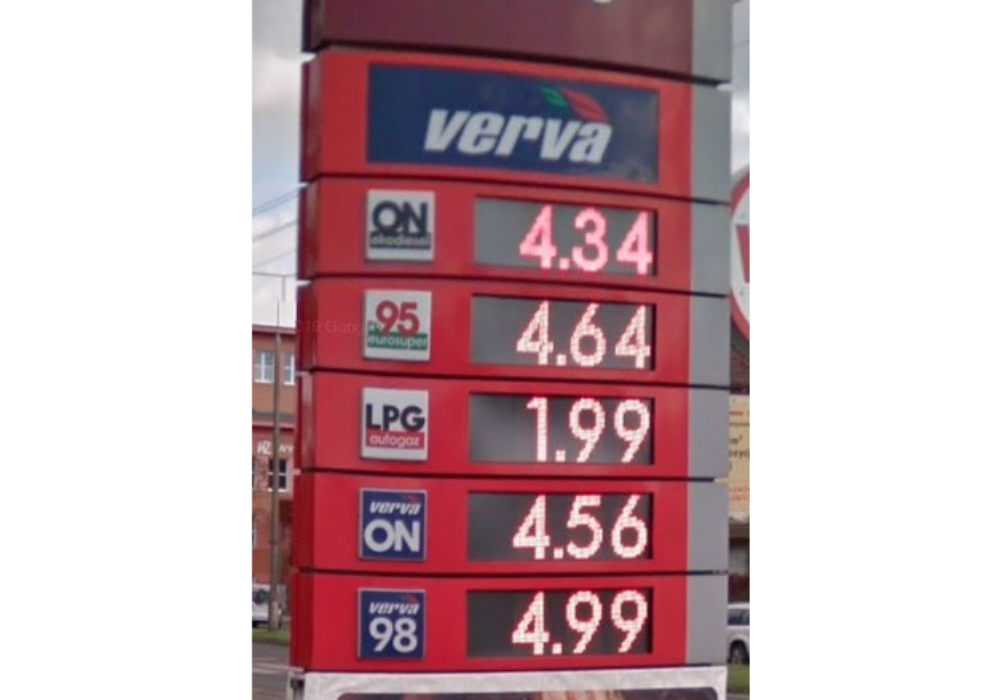LPG: (356, 387, 434, 463)
ON: (360, 186, 442, 267), (355, 486, 428, 563)
PB95: (359, 285, 436, 365)
PB98: (353, 584, 432, 662)
